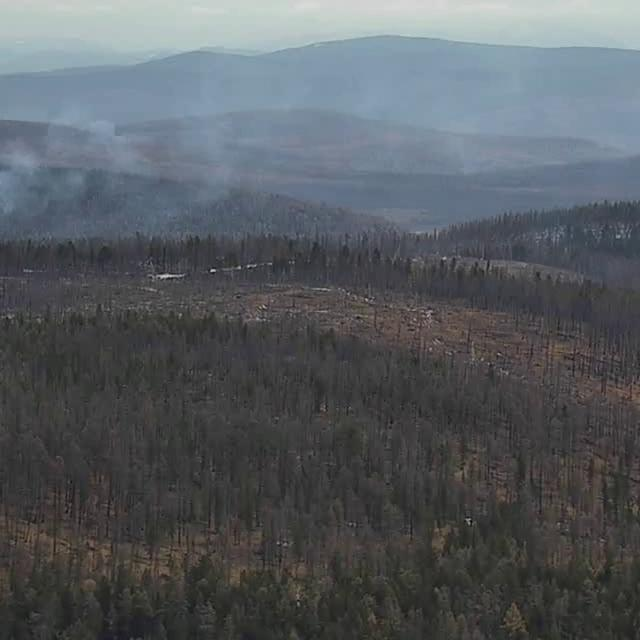Smoke: (1, 96, 216, 270)
